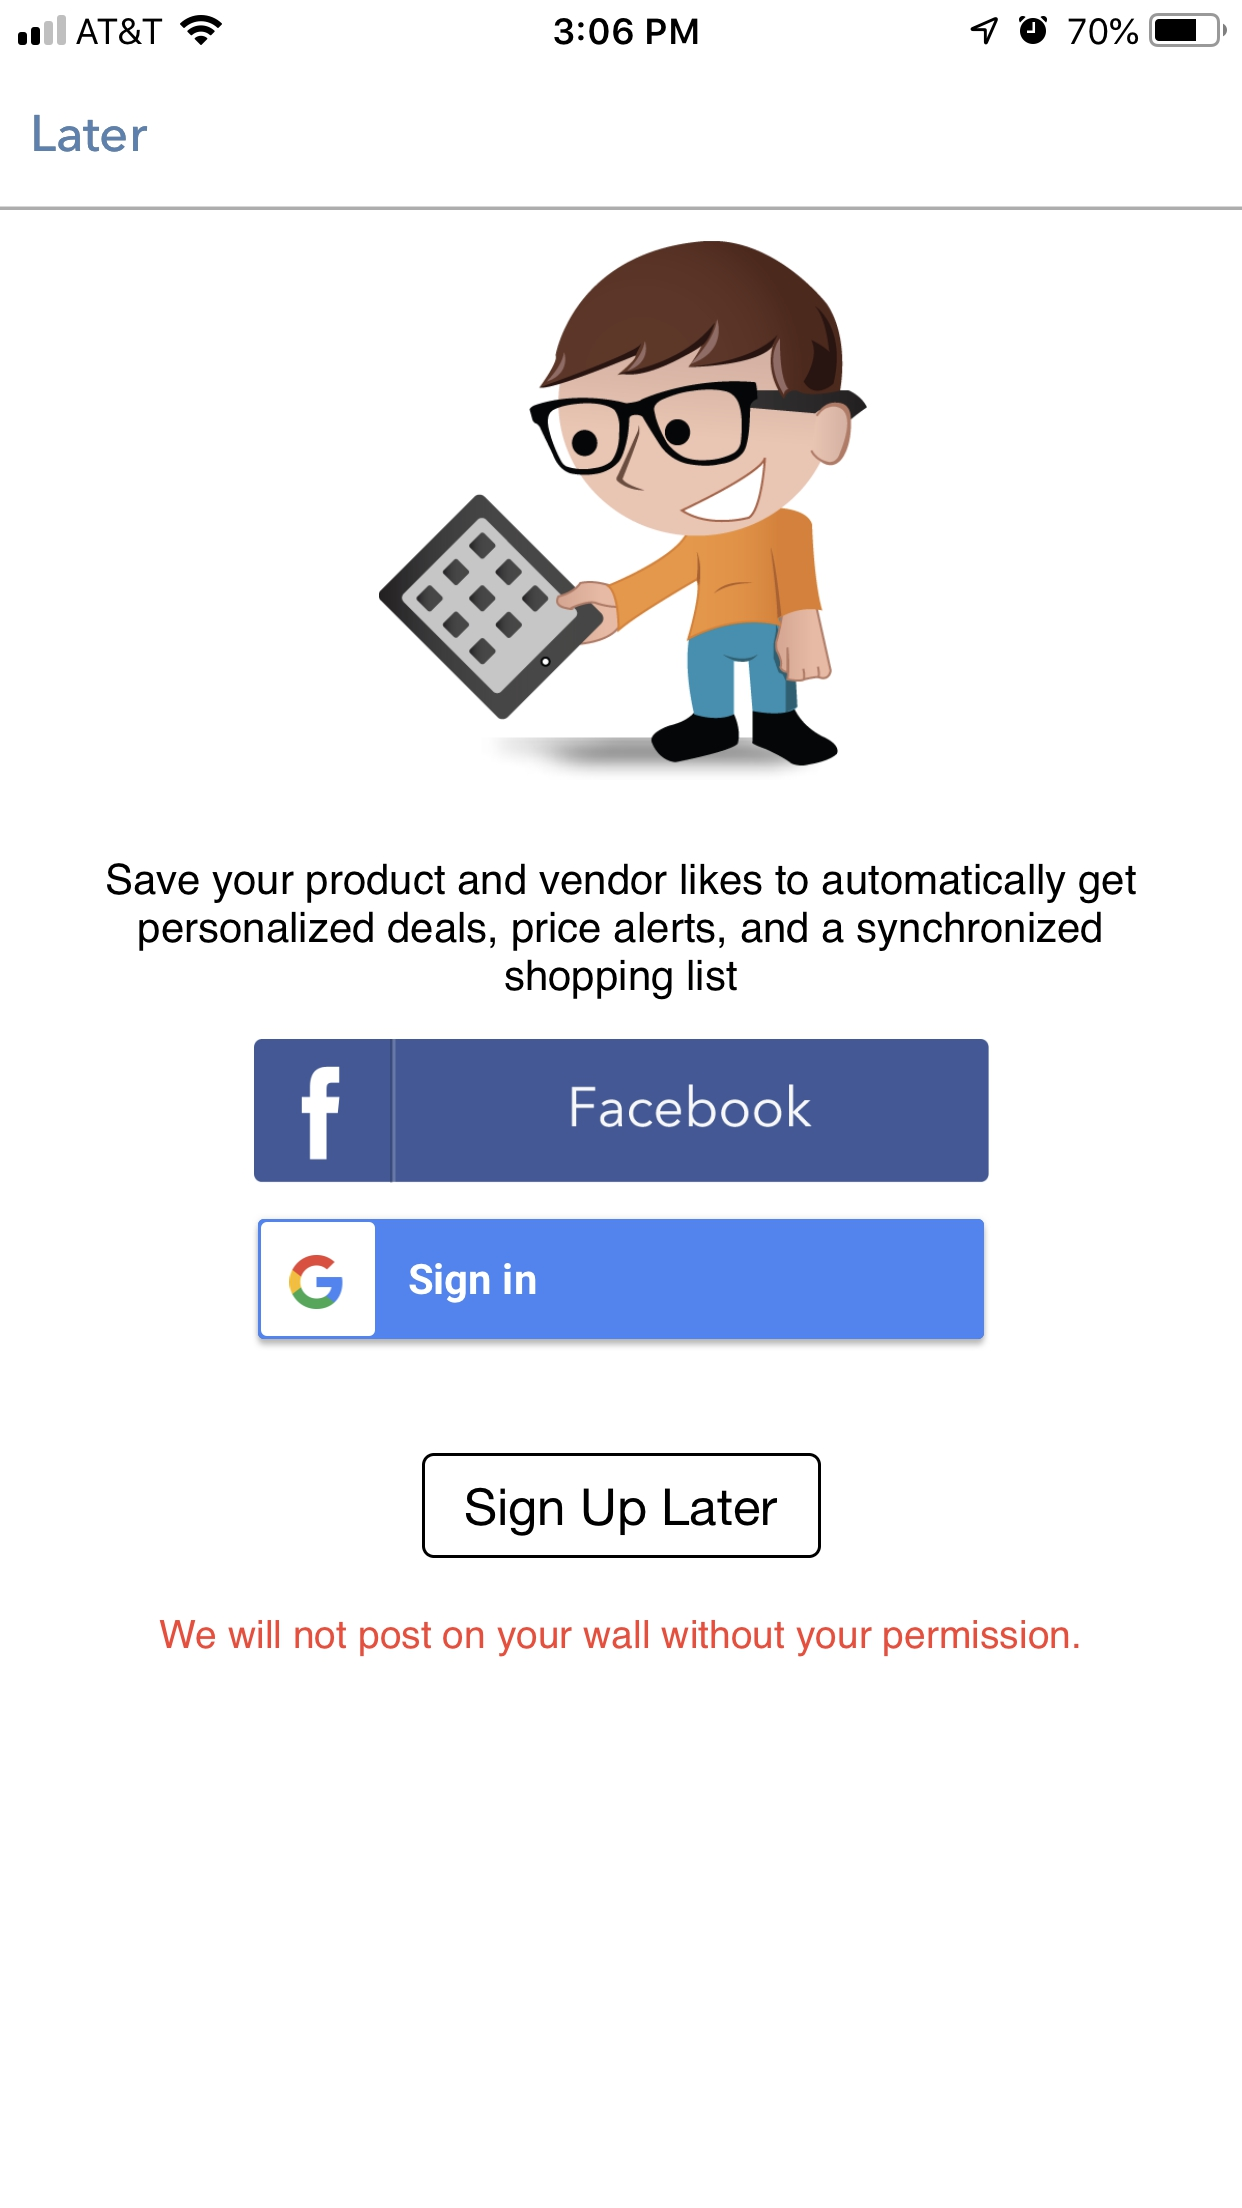Image: (378, 241, 867, 769)
Text: (108, 863, 1137, 1001), (161, 1620, 1080, 1658), (33, 115, 149, 155)
TextButton: (253, 1039, 990, 1183), (258, 1218, 986, 1341), (422, 1451, 822, 1559)
UpperTaskBar: (2, 2, 1242, 49)
